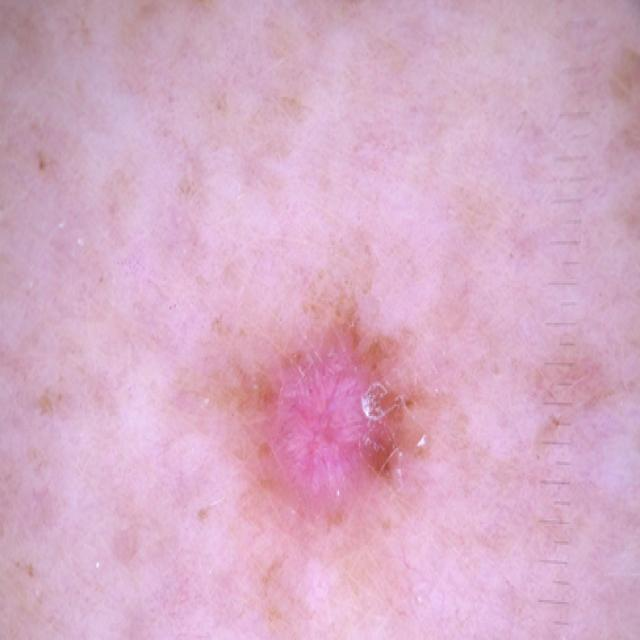Dermatofibroma: (226, 306, 508, 613)
